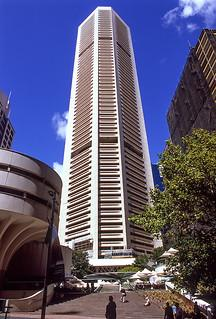building: (56, 5, 166, 277)
